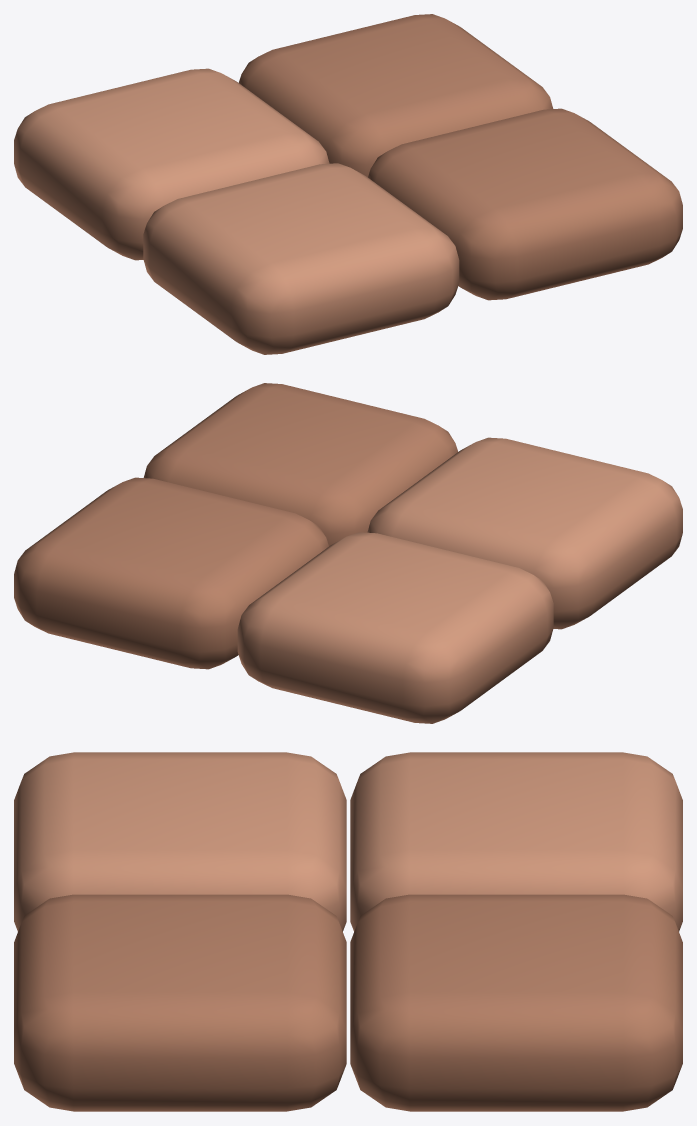
Rendered from garden_ground_2x2.fbx.
The picture shows the model from 3 angles, top to bottom: view 1: azimuth 30°, elevation 25°; view 2: azimuth 150°, elevation 25°; view 3: azimuth 270°, elevation 25°; orthographic projection. The views are drawn at different scales.
Parts seen in each view (by area): view 1: garden_ground_2x2; view 2: garden_ground_2x2; view 3: garden_ground_2x2.
Boxes of the visible parts, left/top/right/bottom form: garden_ground_2x2: left=14, top=14, right=682, bottom=354; garden_ground_2x2: left=14, top=383, right=682, bottom=723; garden_ground_2x2: left=14, top=752, right=682, bottom=1111.
Size of the model in its own units: 138 by 25.66 by 138.
